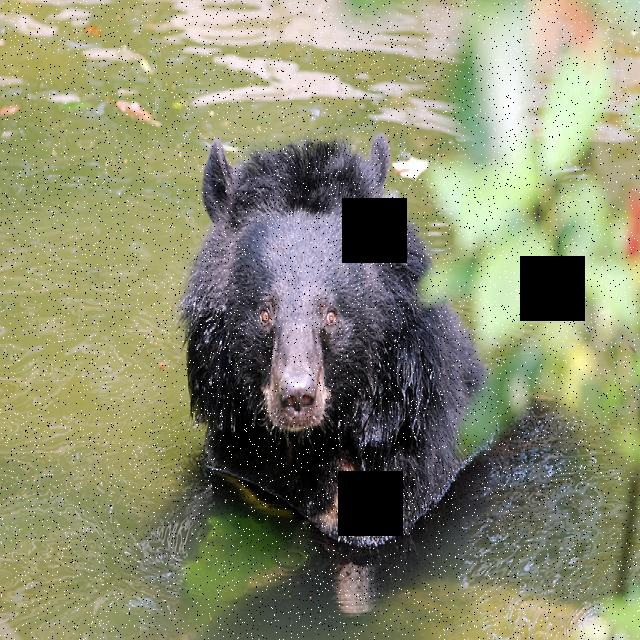Bear: (173, 131, 514, 580)
